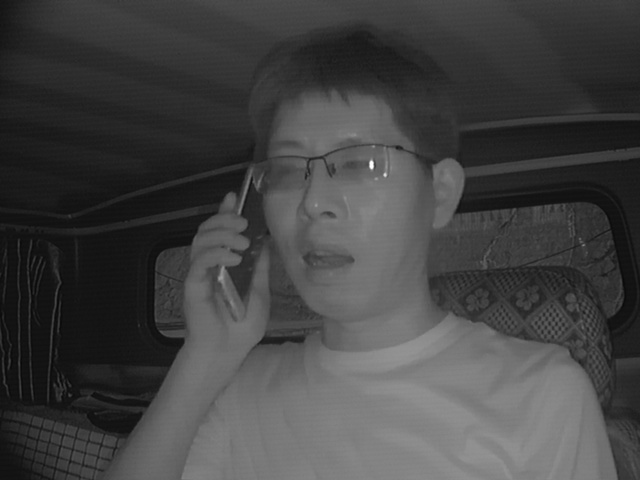hand: (178, 188, 284, 350)
